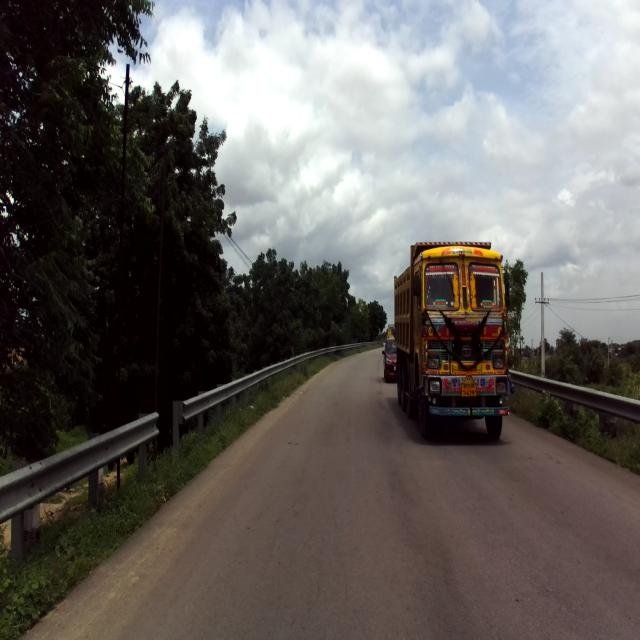truck: (392, 238, 513, 442)
